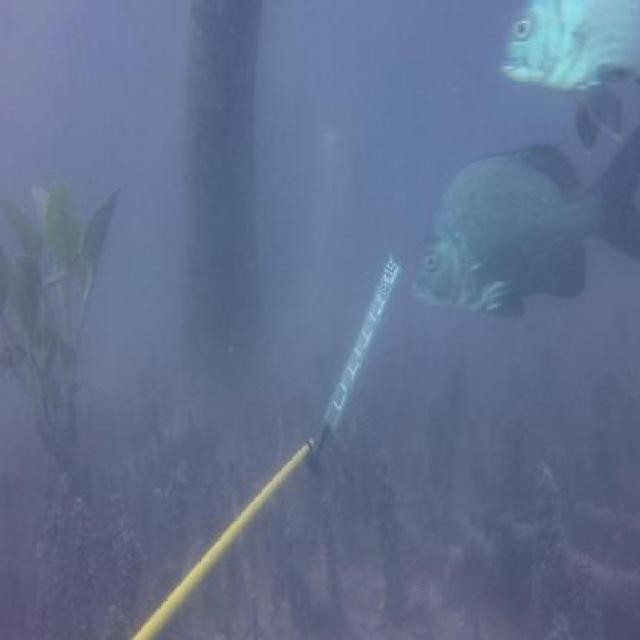acanthopagrus_palmaris: (404, 146, 640, 323), (494, 1, 640, 144)
